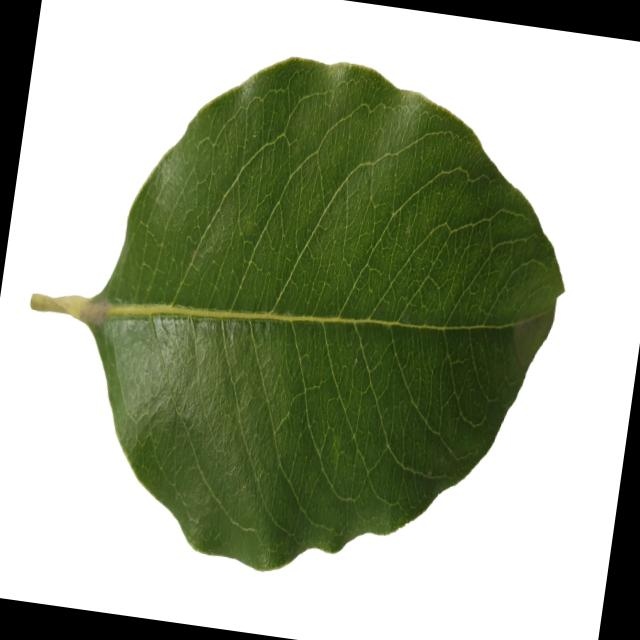Medicinal-Sandalwood: (0, 22, 593, 606)
